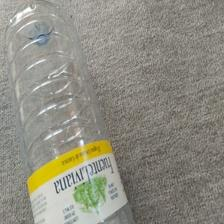BIODEGRADABLE: (4, 2, 132, 224)
